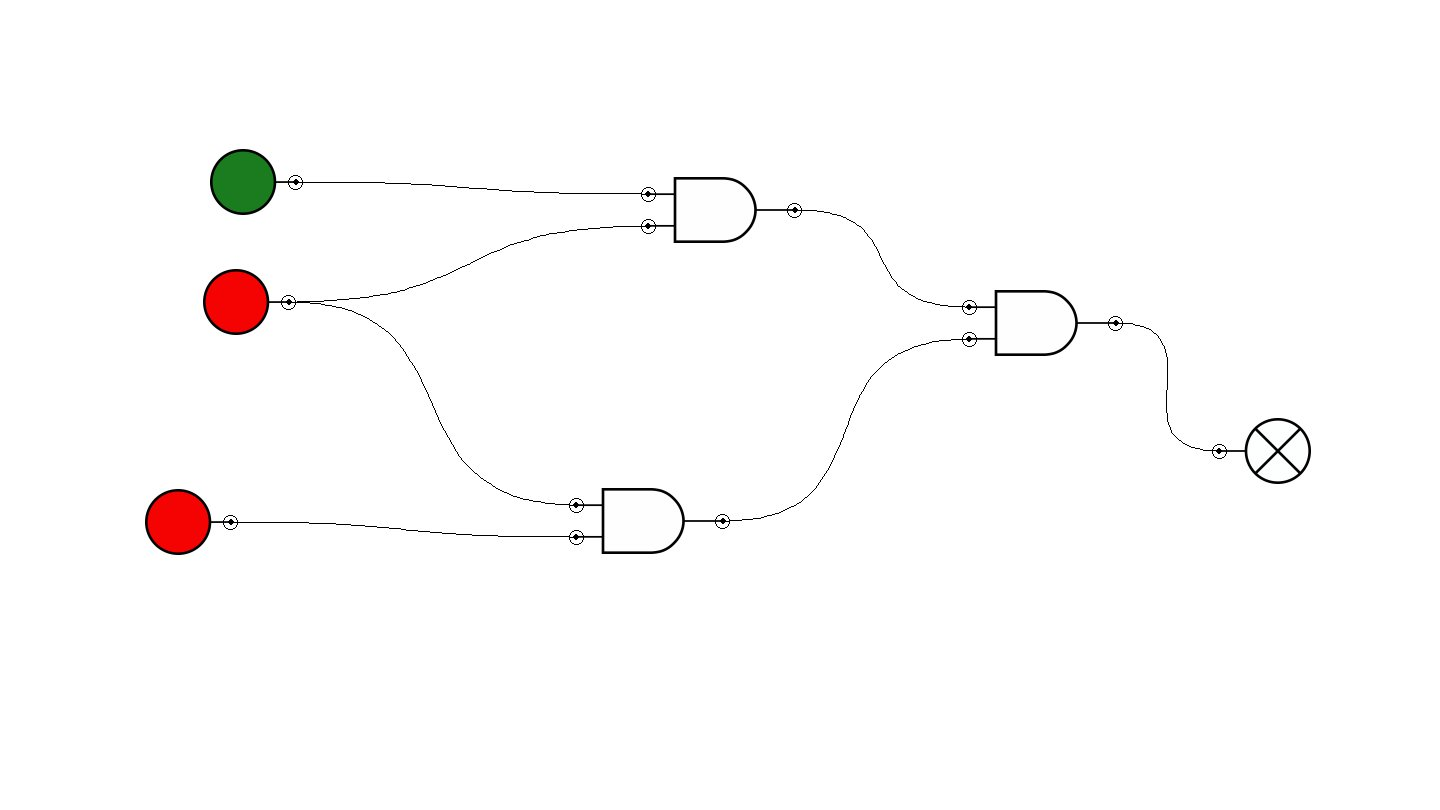and: (962, 290, 1123, 356), (569, 488, 730, 554), (641, 177, 802, 243)
bulb: (1212, 418, 1311, 484)
switch_False: (145, 489, 238, 555), (203, 269, 296, 335)
switch_True: (210, 149, 303, 215)
